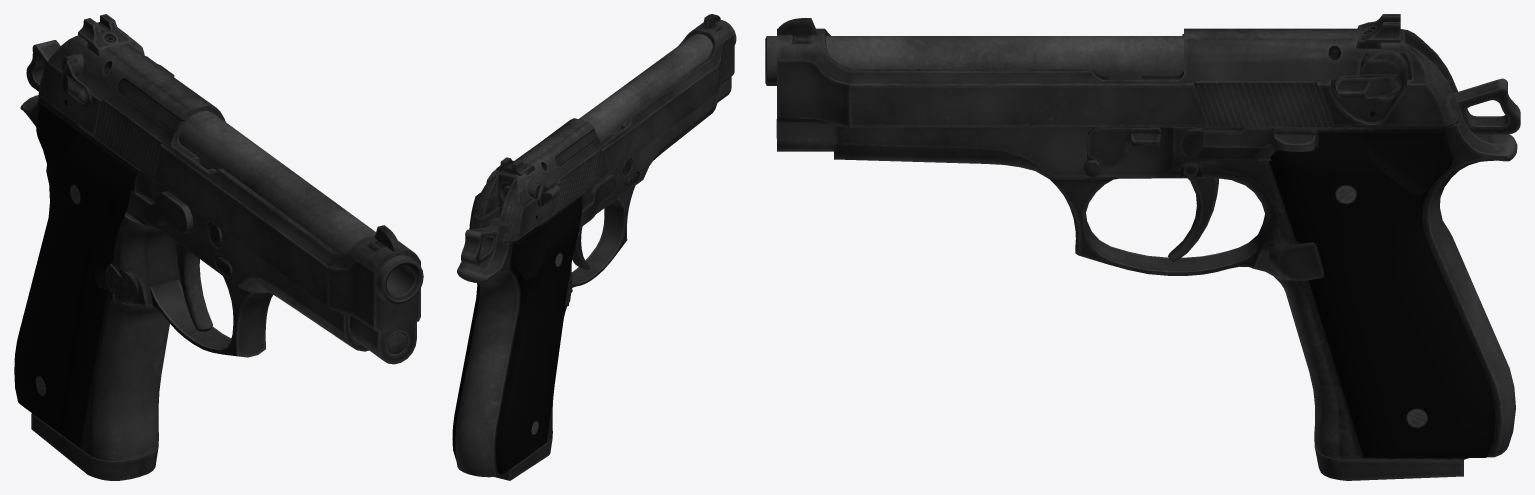
File: Bereta.fbx
3 renders of one model, left to right at view 1: azimuth 30°, elevation 25°; view 2: azimuth 150°, elevation 25°; view 3: azimuth 270°, elevation 25°, orthographic. The views are drawn at different scales.
Visible parts, largest first — view 1: base, slide, mag, trigger, hammer; view 2: base, slide, hammer, mag, trigger; view 3: base, slide, stopper, mag, hammer, trigger.
Part boxes in pixels (bbox=[...]): base: bbox=[14, 95, 423, 460]; slide: bbox=[38, 14, 420, 364]; mag: bbox=[31, 413, 158, 480]; trigger: bbox=[175, 241, 212, 331]; hammer: bbox=[26, 40, 60, 91]; base: bbox=[452, 20, 736, 477]; slide: bbox=[469, 14, 734, 242]; hammer: bbox=[461, 217, 499, 265]; mag: bbox=[493, 437, 552, 480]; trigger: bbox=[572, 227, 590, 269]; base: bbox=[765, 36, 1517, 459]; slide: bbox=[777, 14, 1458, 151]; stopper: bbox=[1179, 126, 1315, 160]; mag: bbox=[1314, 444, 1463, 480]; hammer: bbox=[1454, 78, 1520, 134]; trigger: bbox=[1168, 178, 1218, 262].
Bounding box in the file's own units: 5.51 × 23.28 × 35.76.
